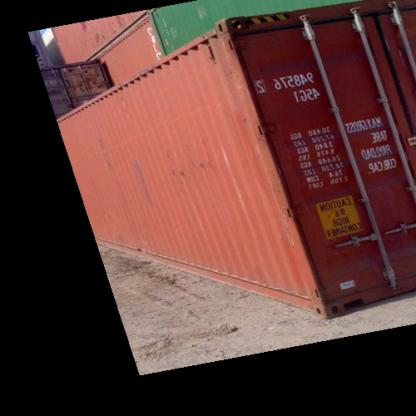Damage: (162, 156, 217, 178), (219, 24, 252, 53), (97, 132, 117, 176), (134, 162, 153, 206), (115, 93, 135, 116)
